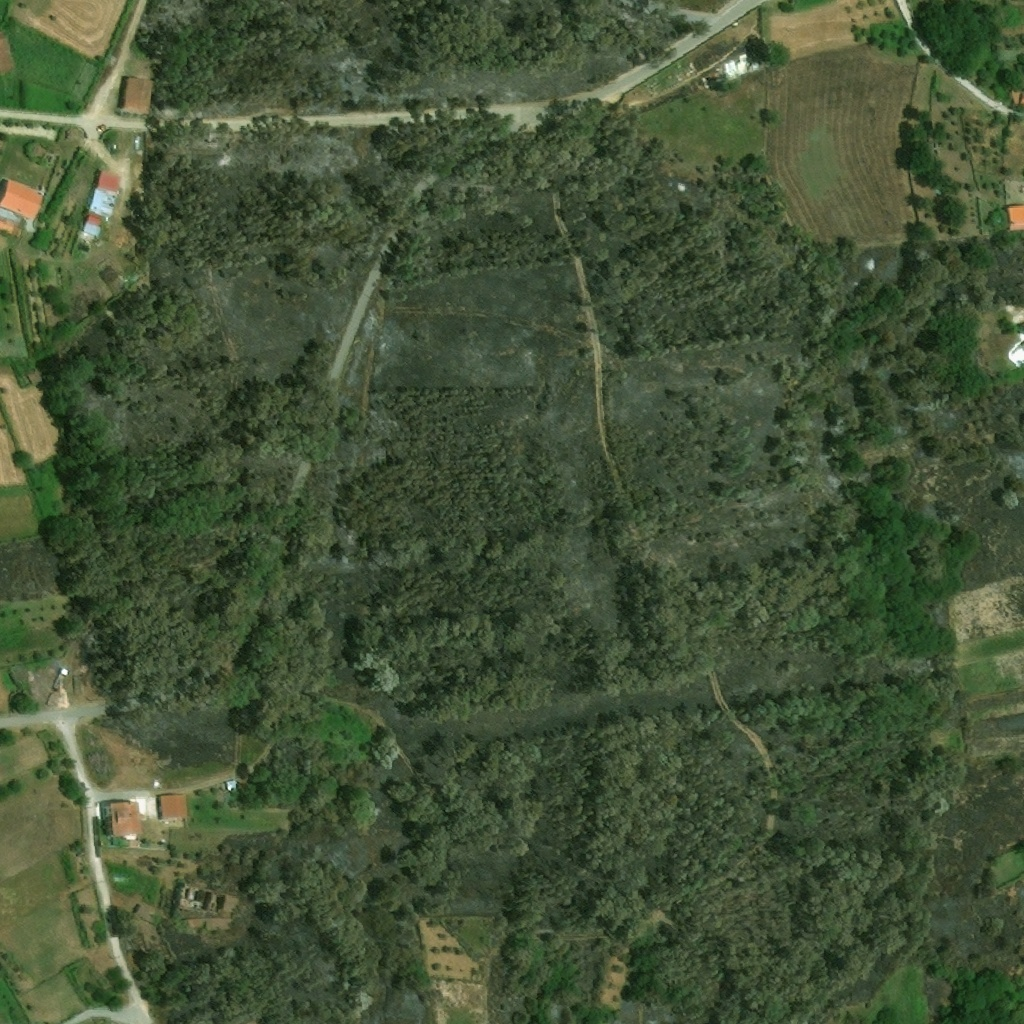0 no-damage: (0, 178, 43, 222), (99, 799, 140, 838), (86, 169, 117, 220), (119, 76, 152, 116), (181, 915, 234, 931), (155, 793, 186, 820), (0, 30, 15, 72), (0, 213, 21, 239), (133, 903, 159, 924), (80, 221, 100, 238)
3 destroyed: (170, 883, 247, 917), (721, 53, 759, 81)
4 un-classified: (1007, 205, 1023, 225)
